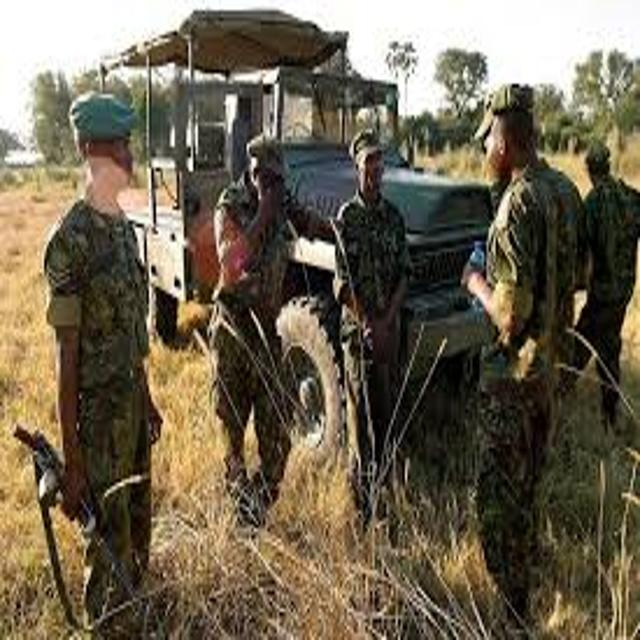gun: (1, 410, 191, 640)
ranger: (400, 59, 619, 640), (1, 68, 205, 637), (180, 115, 362, 552), (296, 104, 454, 561), (509, 110, 640, 455)
